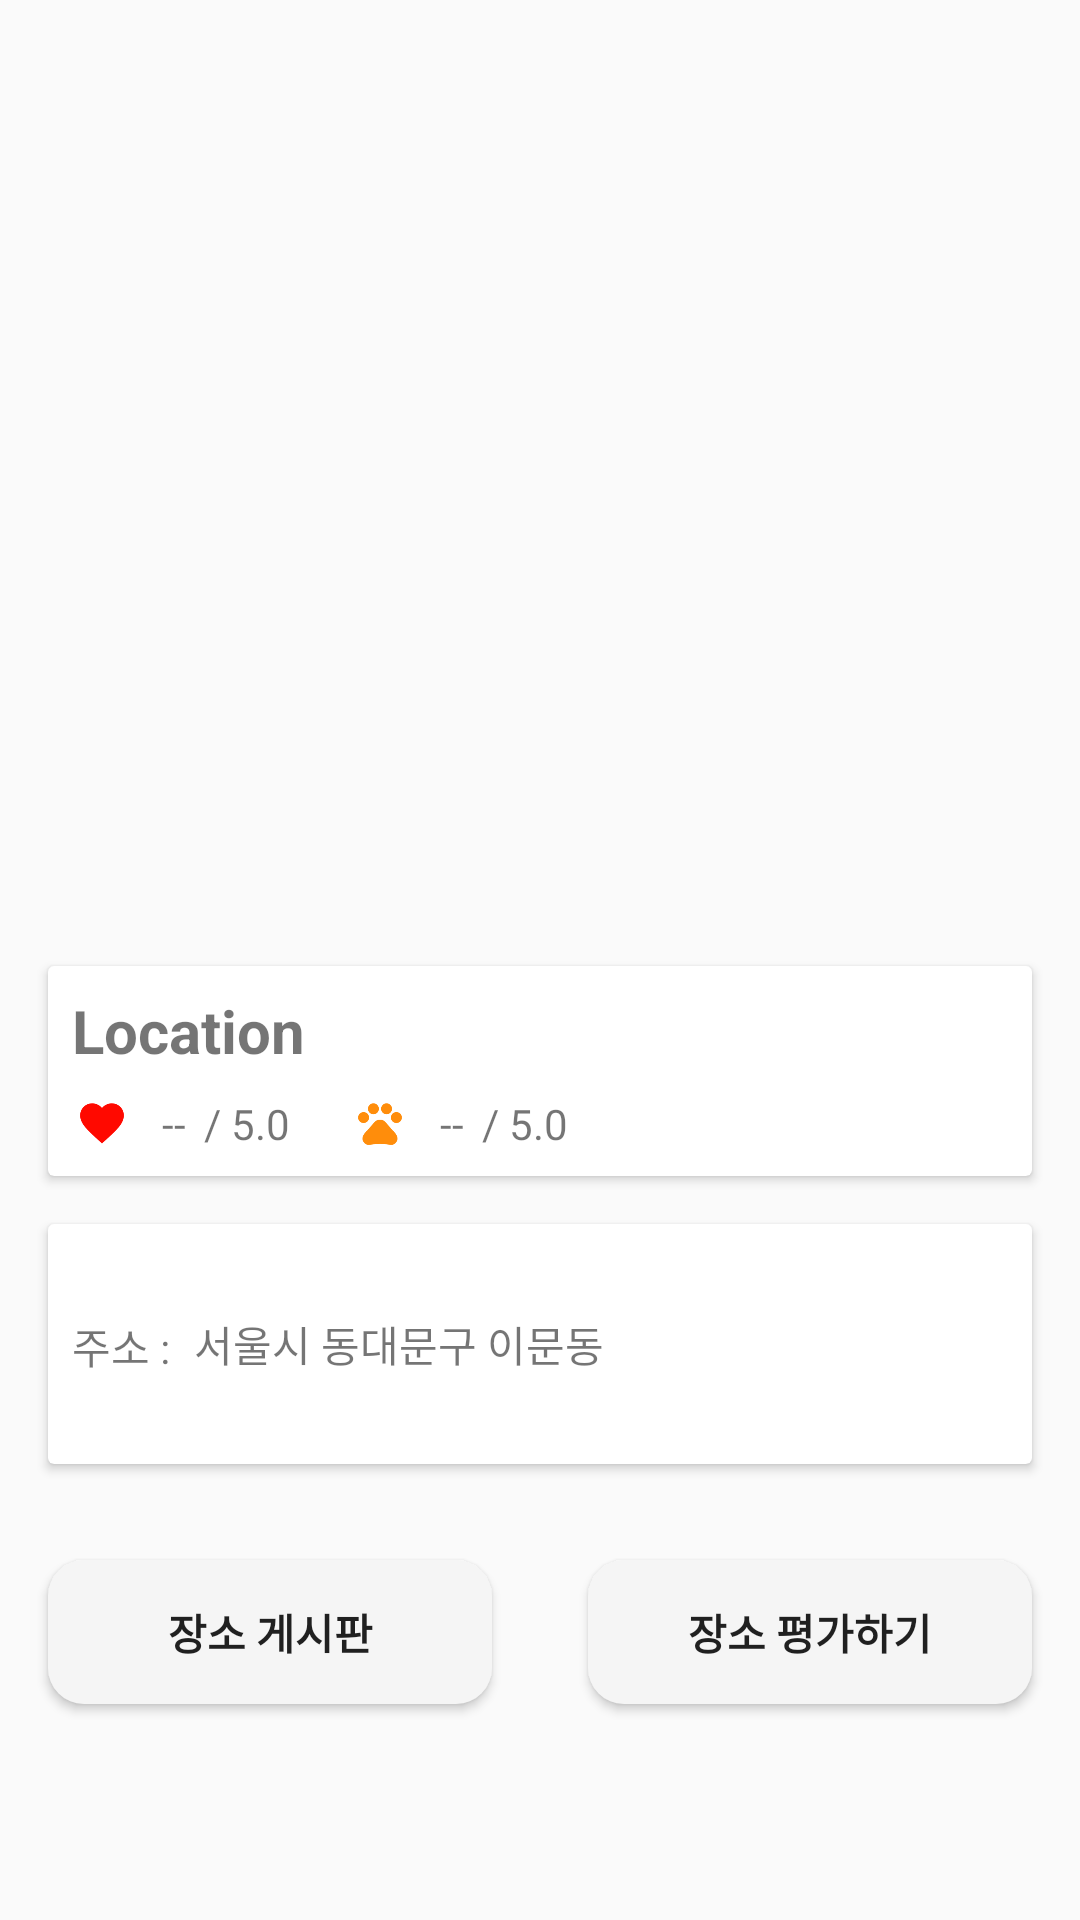

Icon click points for this 1080w x 1920h phone screenshot, format (x,y):
heart: (102,1123)
pet: (380,1124)
